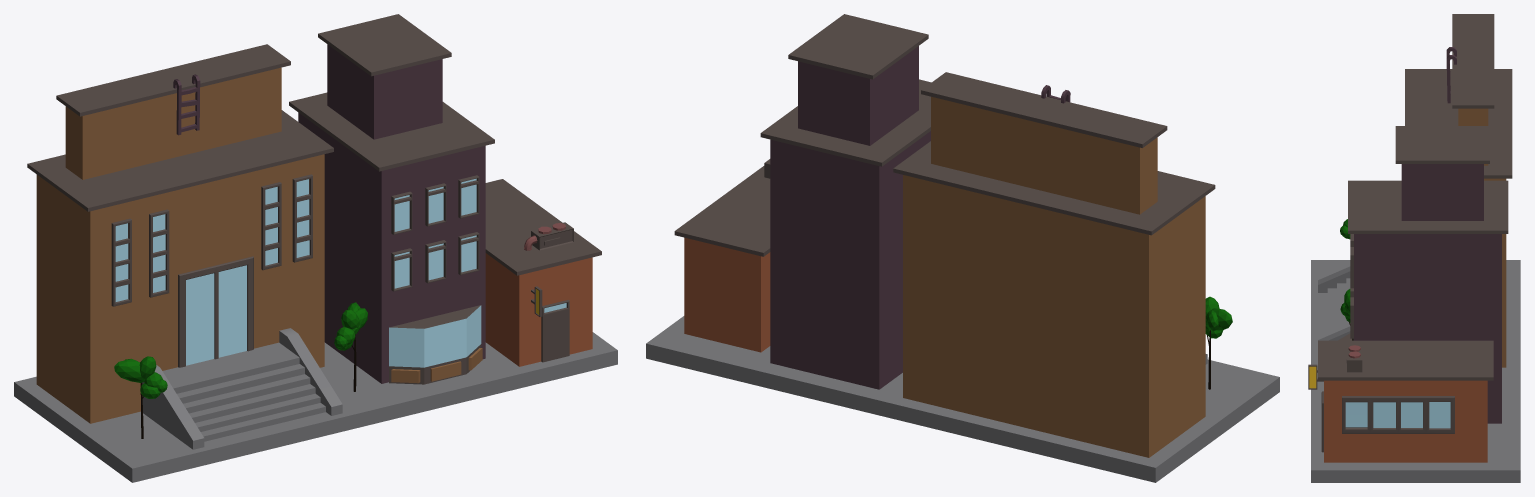
The model's file is Block_7.fbx.
The picture shows the model from 3 angles, left to right: view 1: azimuth 30°, elevation 25°; view 2: azimuth 150°, elevation 25°; view 3: azimuth 270°, elevation 25°; orthographic projection. The views are drawn at different scales.
Visible parts, largest first — view 1: polySurface248, polySurface256, polySurface251, polySurface249, polySurface244, polySurface257, polySurface253, polySurface268, polySurface260, polySurface259, polySurface258, polySurface269 (+14 smaller); view 2: polySurface248, polySurface256, polySurface249, polySurface251, polySurface257, polySurface244, Tree1__7_; view 3: polySurface256, polySurface244, polySurface251, polySurface257, polySurface248, polySurface249, polySurface264, polySurface253, polySurface259, polySurface272, polySurface245, polySurface262 (+1 smaller).
Boxes of the visible parts, box(x1,y1,x2,y2) form: polySurface248: box(27, 110, 333, 423); polySurface256: box(289, 92, 494, 383); polySurface251: box(14, 332, 617, 482); polySurface249: box(56, 44, 290, 179); polySurface244: box(485, 179, 601, 366); polySurface257: box(318, 14, 451, 139); polySurface253: box(162, 342, 325, 441); polySurface268: box(178, 256, 253, 367); polySurface260: box(389, 305, 482, 384); polySurface259: box(142, 365, 204, 449); polySurface258: box(292, 174, 312, 262); polySurface269: box(261, 182, 281, 270); polySurface248: box(893, 141, 1215, 457); polySurface256: box(760, 79, 931, 389); polySurface249: box(921, 72, 1167, 214); polySurface251: box(646, 316, 1279, 482); polySurface257: box(788, 14, 928, 145); polySurface244: box(674, 166, 770, 352); Tree1__7_: box(1205, 296, 1232, 389); polySurface256: box(1348, 180, 1508, 423); polySurface244: box(1318, 340, 1493, 462); polySurface251: box(1311, 260, 1520, 482); polySurface257: box(1395, 126, 1489, 220); polySurface248: box(1405, 69, 1512, 367); polySurface249: box(1452, 14, 1494, 165); polySurface264: box(1342, 396, 1454, 433); polySurface253: box(1327, 278, 1350, 335); polySurface259: box(1318, 266, 1350, 292); polySurface272: box(1346, 345, 1362, 372); polySurface245: box(1446, 47, 1456, 103); polySurface262: box(1308, 364, 1323, 389).
Size of the model in its own units: 710 by 439 by 303.
